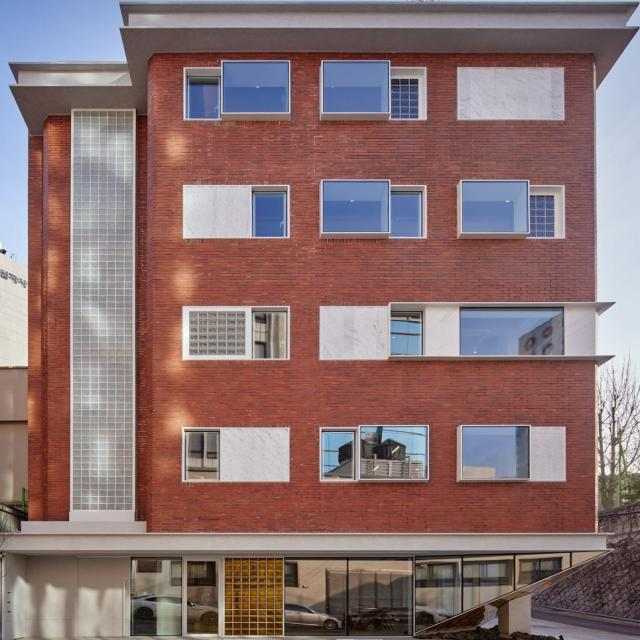door: (181, 555, 224, 640)
plant: (596, 355, 639, 513)
wall: (0, 0, 639, 638)
windows: (281, 558, 562, 639), (127, 557, 227, 639), (323, 62, 422, 117), (458, 309, 566, 354), (461, 425, 529, 480), (321, 180, 387, 233), (462, 180, 528, 233), (358, 426, 424, 479), (223, 59, 288, 112), (251, 192, 287, 236), (256, 311, 288, 359), (188, 431, 220, 478), (188, 77, 220, 120), (327, 435, 358, 478), (390, 191, 420, 234), (530, 194, 560, 236), (390, 312, 420, 354)
